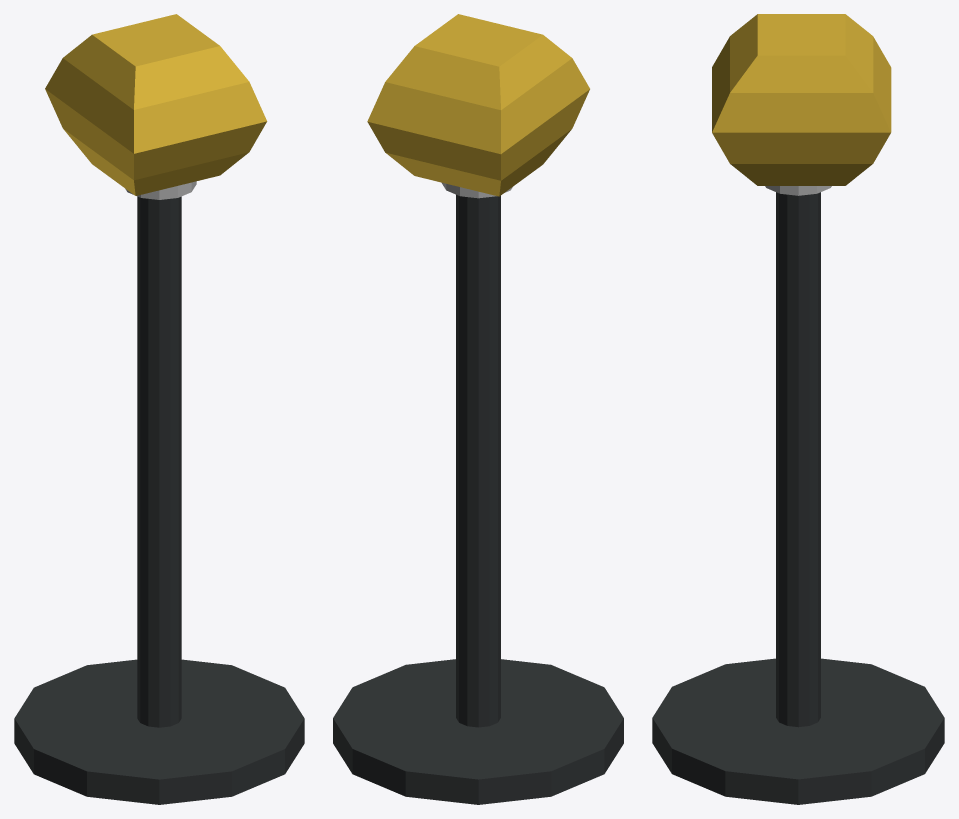
Rendered from weakpoint.fbx.
3 renders of one model, left to right at view 1: azimuth 30°, elevation 25°; view 2: azimuth 150°, elevation 25°; view 3: azimuth 270°, elevation 25°, orthographic.
Visible parts, largest first — view 1: Cylinder.001, Cylinder.003; view 2: Cylinder.001, Cylinder.003; view 3: Cylinder.001, Cylinder.003.
Boxes of the visible parts, x1,y1,x2,y2 form: Cylinder.001: (14, 181, 304, 804); Cylinder.003: (45, 14, 267, 195); Cylinder.001: (333, 182, 623, 804); Cylinder.003: (367, 14, 589, 196); Cylinder.001: (652, 186, 944, 804); Cylinder.003: (712, 14, 891, 185).
Size of the model in its own units: 4.65 by 4.65 by 12.44.
